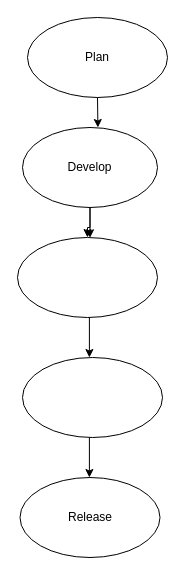
This 185x575 diagram has some shape labels left out. Each missing label, with the box of its shape:
Bulid: (16, 236, 158, 318)
Test: (22, 356, 162, 438)
